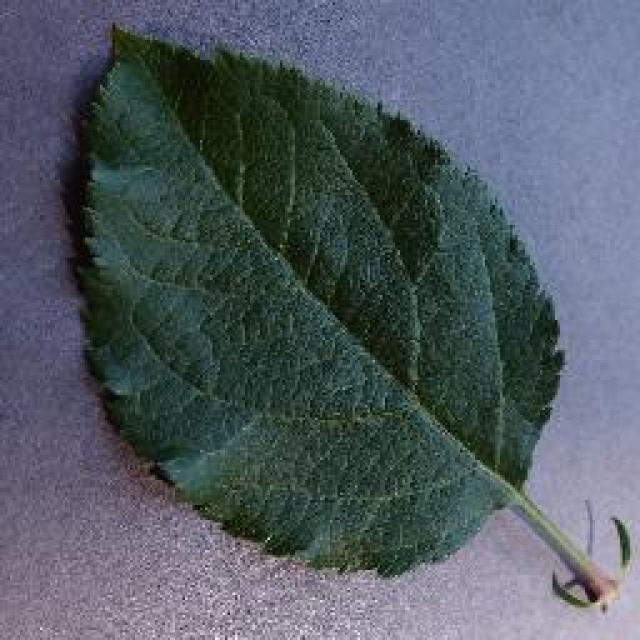apple healthy: (65, 18, 633, 612)
